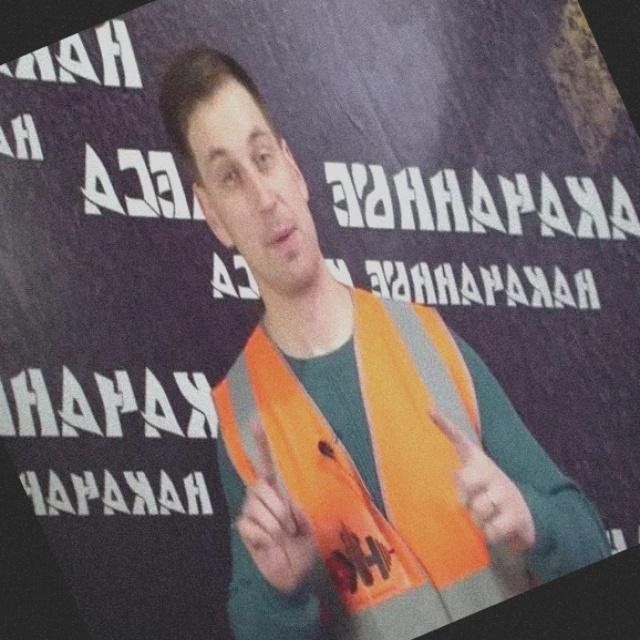safety_vest: (196, 284, 536, 636)
